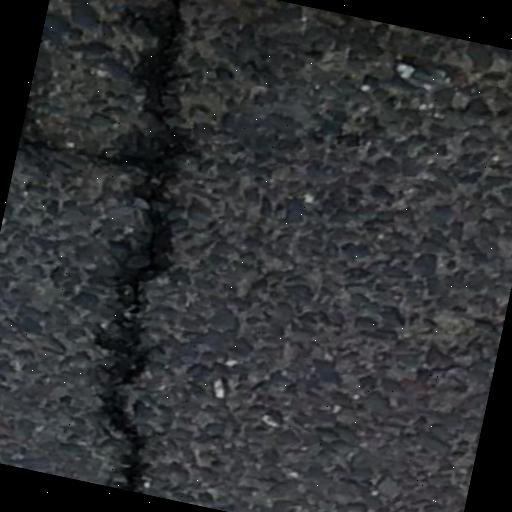spalling: (100, 0, 209, 484)
